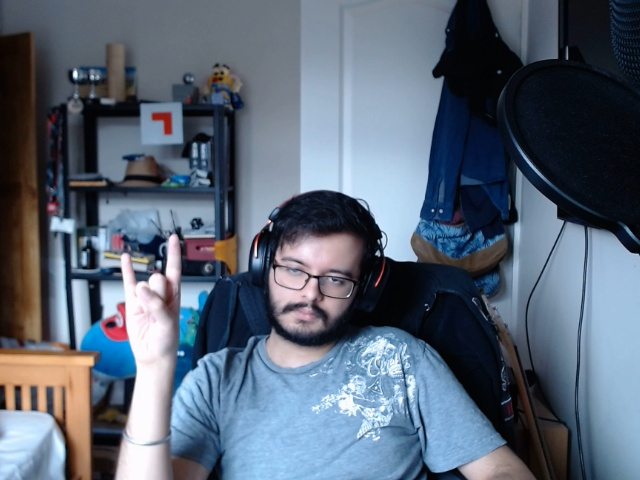Rock on: (115, 227, 189, 381)
